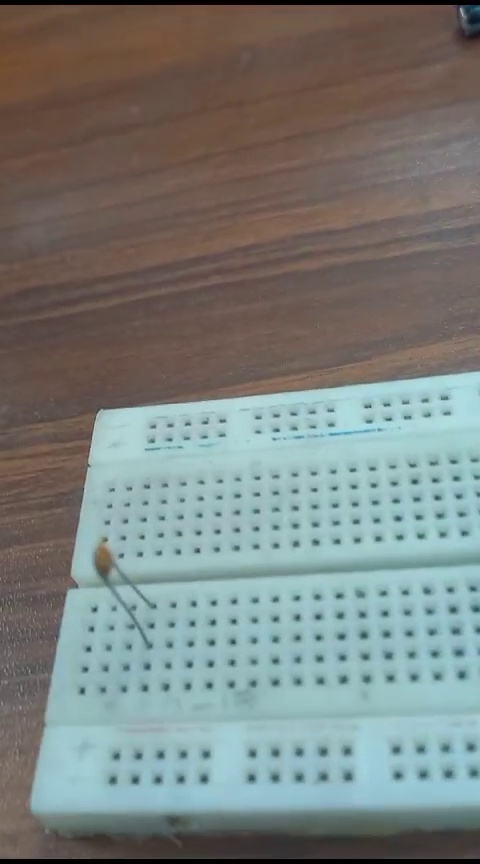ceramic capacitor: (79, 543, 175, 648)
